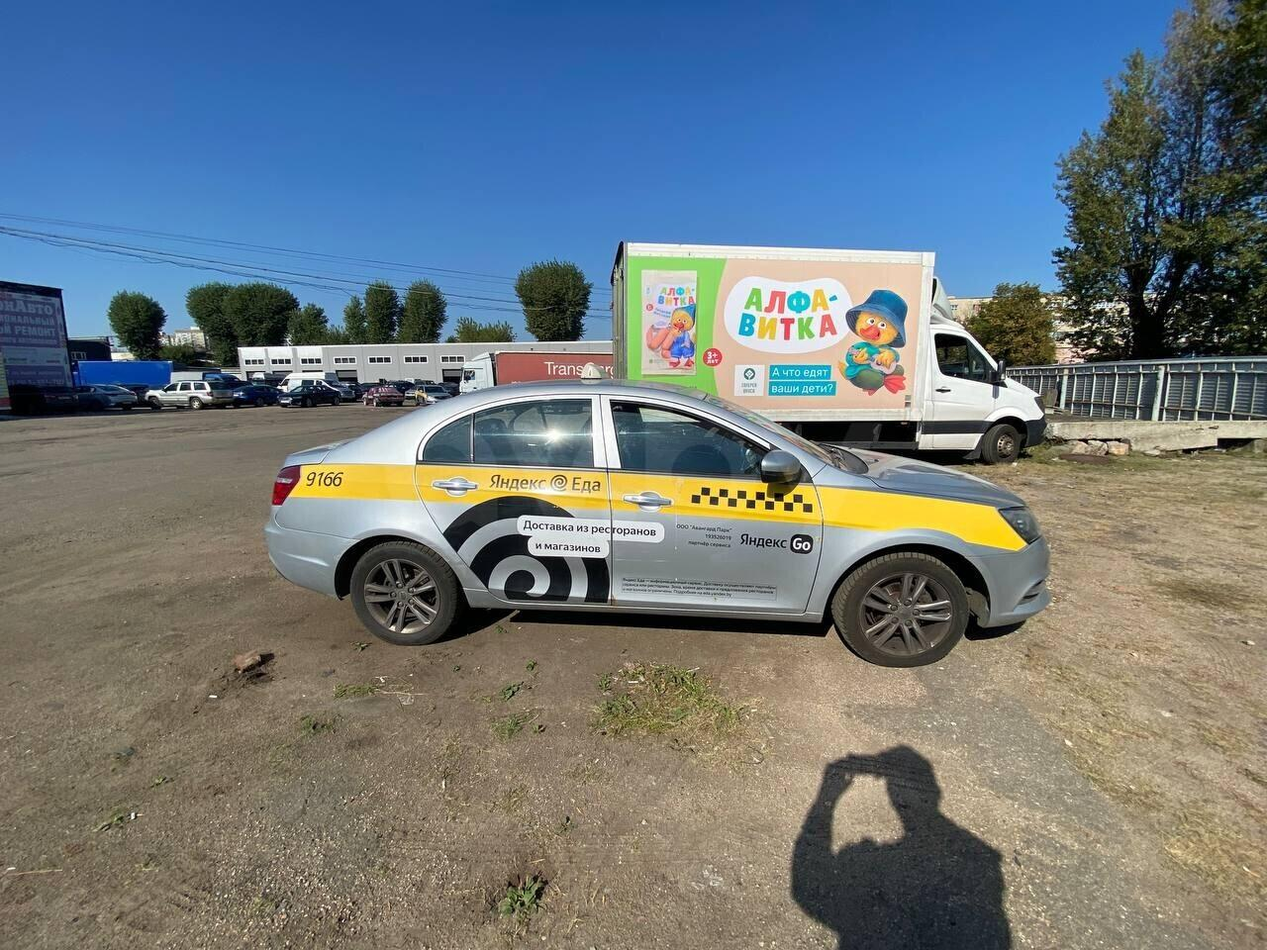Emgrand_2019-2021: (265, 379, 1049, 667), (819, 488, 1020, 549)
